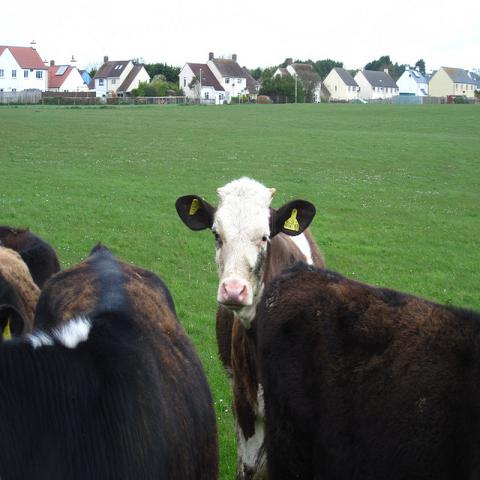car: (257, 95, 274, 104)
